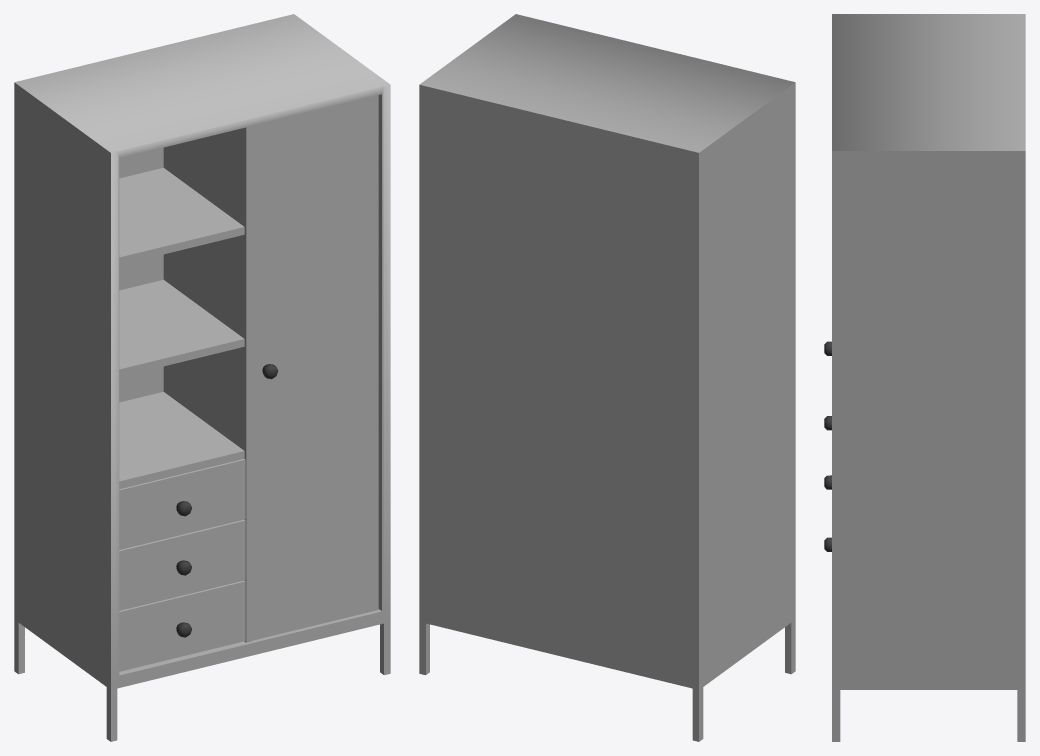
Rendered from Cupboard_01.fbx.
3 renders of one model, left to right at view 1: azimuth 30°, elevation 25°; view 2: azimuth 150°, elevation 25°; view 3: azimuth 270°, elevation 25°, orthographic.
Parts seen in each view (by area): view 1: Cupboard_01, Cupboard_01_R, Cupboard_01_Drawer_Mid, Cupboard_01_Drawer_Bot, Cupboard_01_Drawer_Top; view 2: Cupboard_01; view 3: Cupboard_01.
Part boxes in pixels (<box>): Cupboard_01: <box>14,14,390,741</box>; Cupboard_01_R: <box>252,95,378,640</box>; Cupboard_01_Drawer_Mid: <box>119,519,245,610</box>; Cupboard_01_Drawer_Bot: <box>119,580,245,671</box>; Cupboard_01_Drawer_Top: <box>119,459,245,549</box>; Cupboard_01: <box>419,14,795,741</box>; Cupboard_01: <box>832,14,1025,741</box>.
Bounding box in the file's own units: 0.935 × 1.88 × 0.5814.
